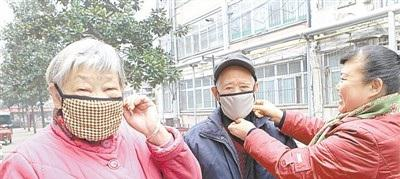NONE: (335, 73, 381, 112)
OK: (63, 72, 131, 140), (216, 76, 259, 119)
